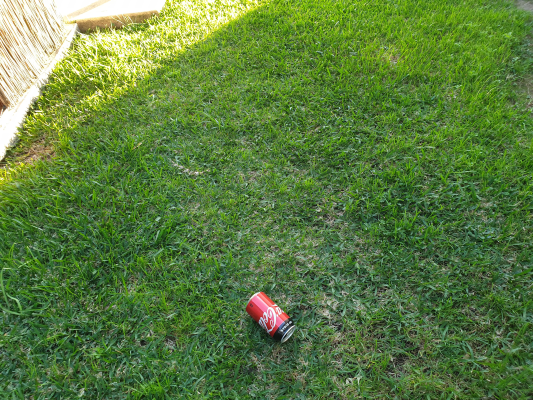Plastic Bottle: (245, 291, 296, 343)
